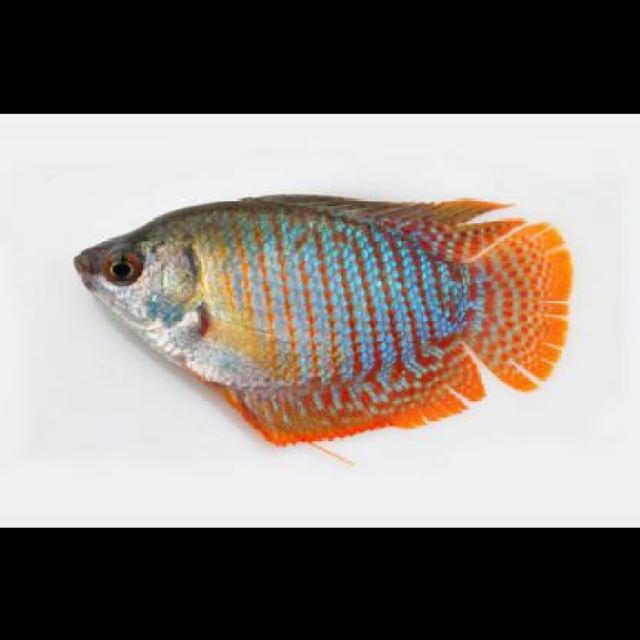Gourami: (60, 178, 580, 450)
